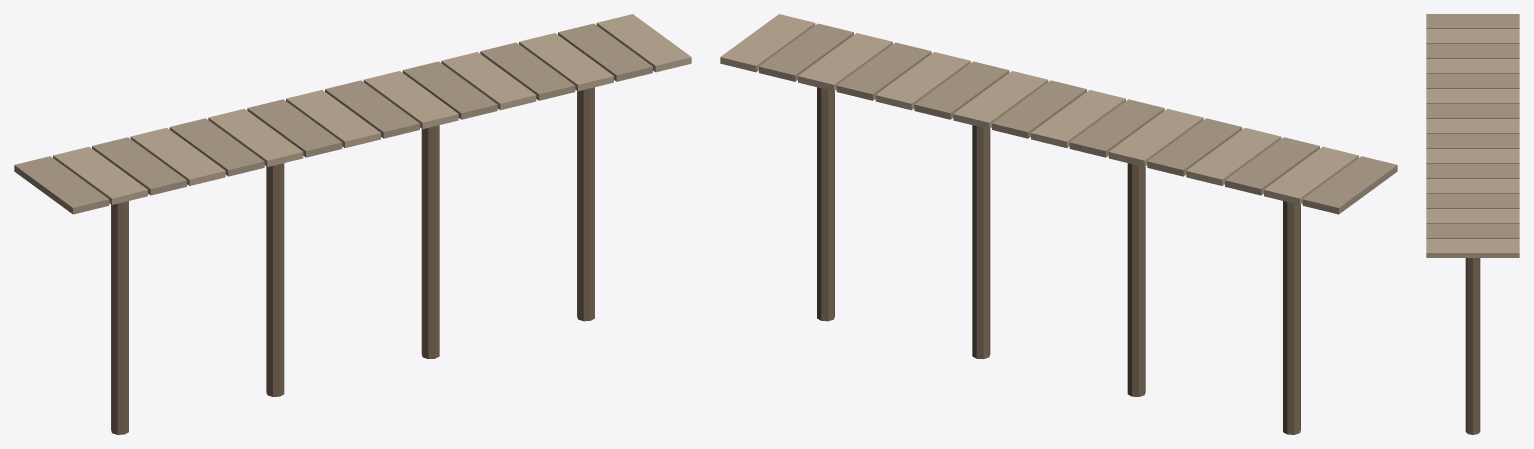
The model's file is walkway.glb.
3 views of the same model, side by side, from view 1: azimuth 30°, elevation 25°; view 2: azimuth 150°, elevation 25°; view 3: azimuth 270°, elevation 25° (orthographic). The views are drawn at different scales.
Parts seen in each view (by area): view 1: MK_walkway; view 2: MK_walkway; view 3: MK_walkway.
Boxes of the visible parts, x1,y1,x2,y2 form: MK_walkway: (14,14,691,434); MK_walkway: (720,14,1397,434); MK_walkway: (1426,14,1519,434).
Bounding box in the file's own units: 6.97 × 2.84 × 1.15.
